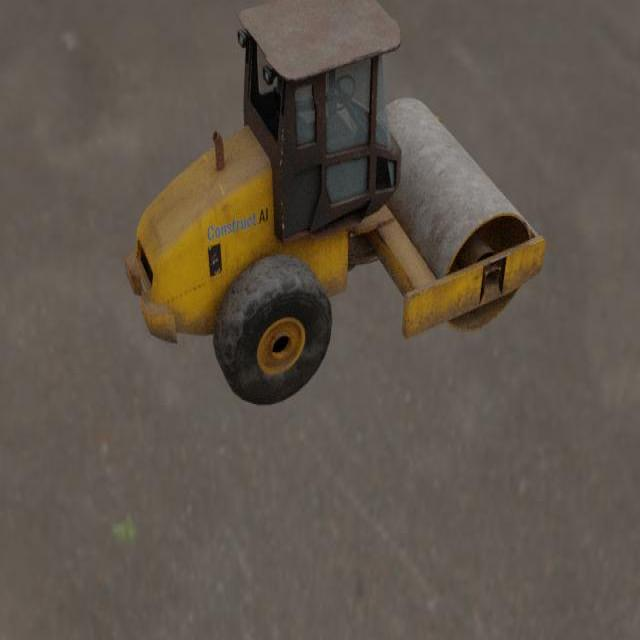Roller: (123, 0, 546, 407)
